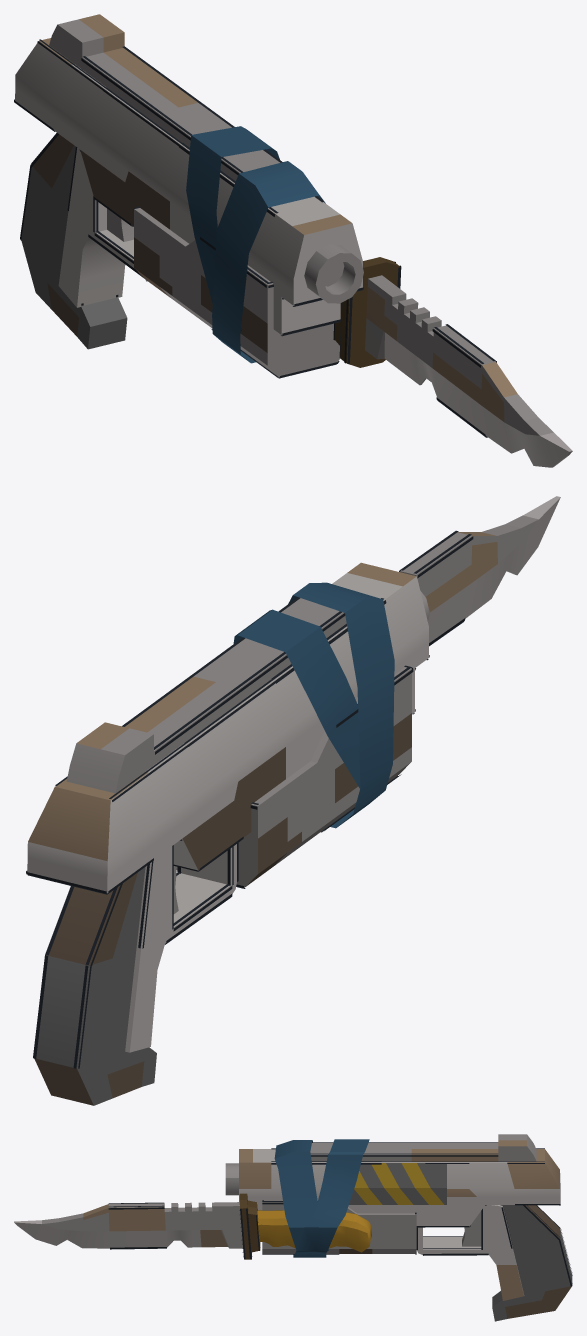
Rendered from pistol.glb.
3 views of the same model, one above another, from view 1: azimuth 30°, elevation 25°; view 2: azimuth 150°, elevation 25°; view 3: azimuth 270°, elevation 25° (orthographic). The views are drawn at different scales.
Parts seen in each view (by area): view 1: Pistol, Pistol_StructuralInk; view 2: Pistol, Pistol_StructuralInk; view 3: Pistol, Pistol_StructuralInk.
Boxes of the visible parts, x1,y1,x2,y2 form: Pistol: (15, 14, 572, 467); Pistol_StructuralInk: (14, 39, 496, 437); Pistol: (27, 496, 560, 1105); Pistol_StructuralInk: (26, 530, 473, 1068); Pistol: (14, 1134, 572, 1321); Pistol_StructuralInk: (108, 1142, 572, 1286).
Size of the model in its own units: 0.048 by 0.1155 by 0.3324.
2 materials, 1 textured.
